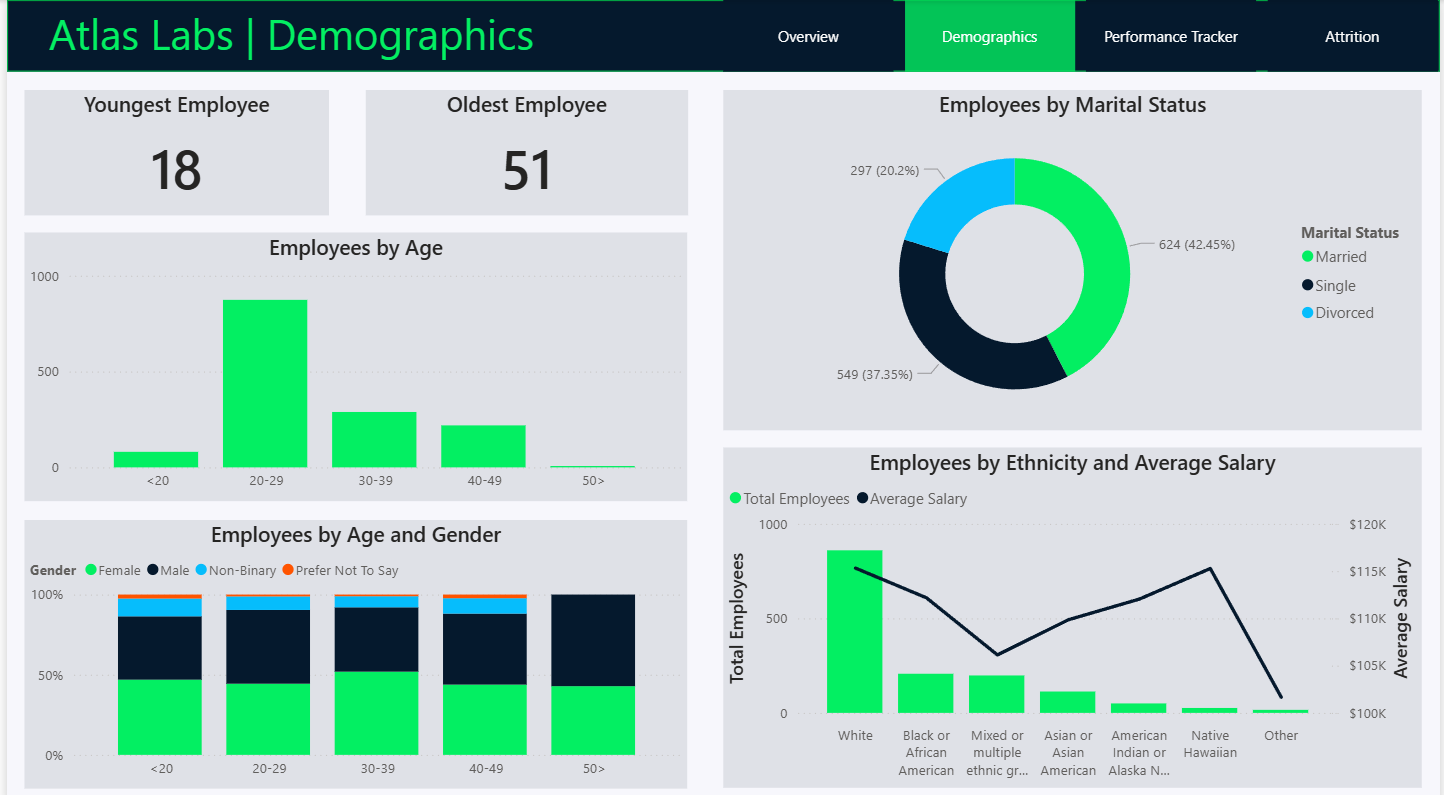

The dashboard page shown, as its layout file describes it:
{"tool":"powerbi","page":{"name":"Demographics","canvas":[1280,720],"ordinal":1},"visuals":[{"type":"card","title":"Youngest Employee","fields":{"Values":["Min(DimEmployee.Age)"]},"box":[16,80,272,112],"z":0},{"type":"card","title":"Oldest Employee","fields":{"Values":["Max(DimEmployee.Age)"]},"box":[320,80,288,112],"z":1000},{"type":"columnChart","title":"Employees by Age","fields":{"Category":["DimEmployee.AgeBins"],"Y":["_Measures.TotalEmployees"]},"box":[16,208,592,240],"z":2000},{"type":"hundredPercentStackedColumnChart","title":"Employees by Age and Gender","fields":{"Category":["DimEmployee.AgeBins"],"Series":["DimEmployee.Gender"],"Y":["_Measures.TotalEmployees"]},"box":[16,464,592,240],"z":3000},{"type":"donutChart","title":"Employees by Marital Status","fields":{"Category":["DimEmployee.MaritalStatus"],"Y":["_Measures.TotalEmployees"]},"box":[640,80,624,304],"z":4000},{"type":"lineStackedColumnComboChart","title":"Employees by Ethnicity and Average Salary","fields":{"Category":["DimEmployee.Ethnicity"],"Y":["_Measures.TotalEmployees"],"Y2":["_Measures.AverageSalary"]},"box":[640,400,624,304],"z":5000},{"type":"shape","box":[0,0,1280,64],"z":6000},{"type":"textbox","box":[32,0,624,64],"z":7000},{"type":"pageNavigator","box":[640,0,640,64],"z":8000}]}

Visuals, with their boxes in screenshot pixels (x1, y1, x2, y2), scaled from the page's 1280x720 canvas onto the 1444x795 screenshot:
"Youngest Employee" card: select_region(18, 88, 325, 212)
"Oldest Employee" card: select_region(361, 88, 686, 212)
"Employees by Age" columnChart: select_region(18, 230, 686, 495)
"Employees by Age and Gender" hundredPercentStackedColumnChart: select_region(18, 512, 686, 777)
"Employees by Marital Status" donutChart: select_region(722, 88, 1426, 424)
"Employees by Ethnicity and Average Salary" lineStackedColumnComboChart: select_region(722, 442, 1426, 777)
shape: select_region(0, 0, 1443, 71)
textbox: select_region(36, 0, 740, 71)
pageNavigator: select_region(722, 0, 1443, 71)
